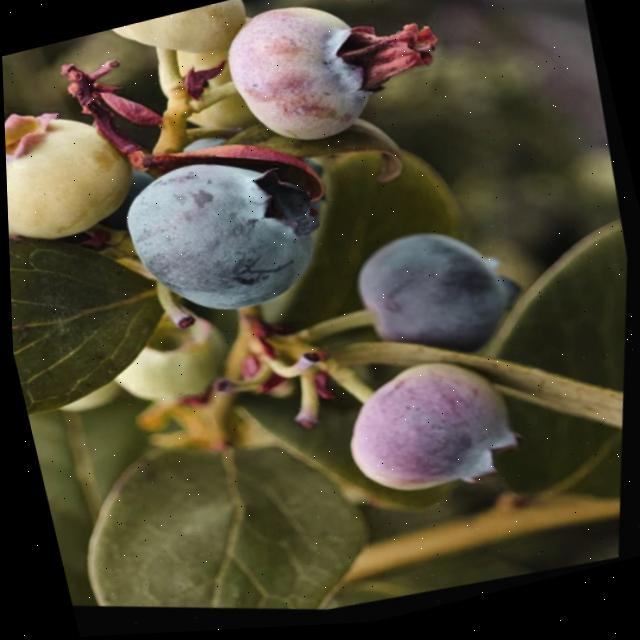RipeBlueBerry: (89, 124, 349, 362)
Semi-RipeBlueBerry: (323, 333, 537, 530), (199, 0, 421, 183)
UnripeBlueBerry: (3, 94, 155, 278), (86, 0, 265, 97)
